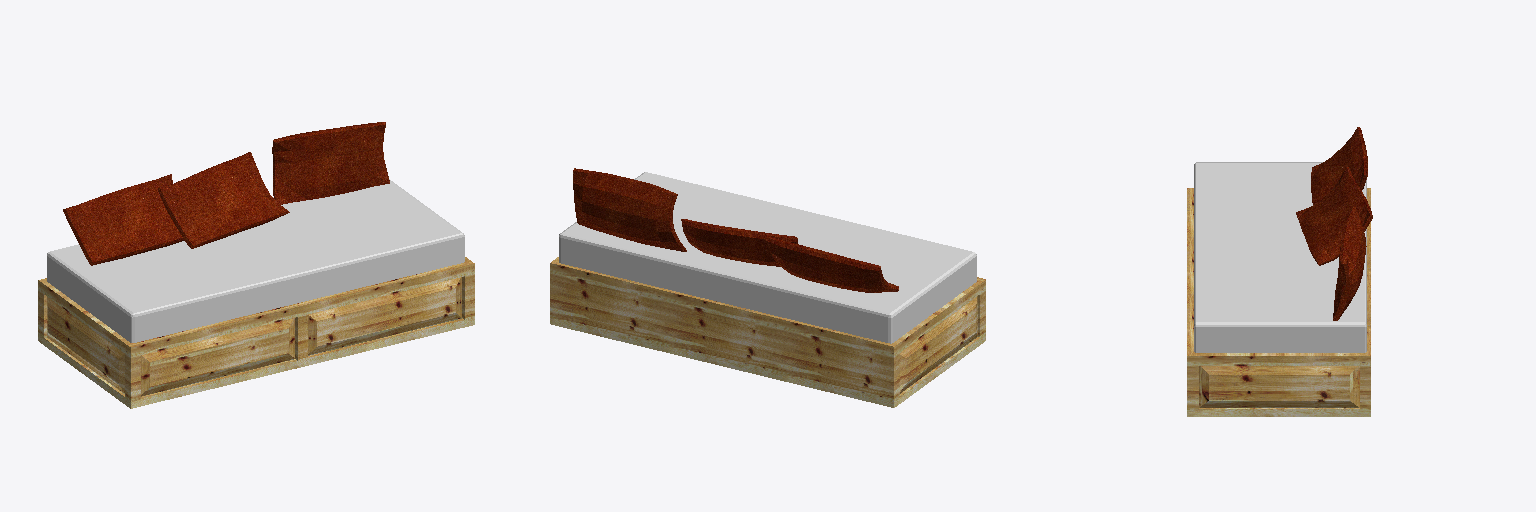
3 views of the same model, side by side, from view 1: azimuth 30°, elevation 25°; view 2: azimuth 150°, elevation 25°; view 3: azimuth 270°, elevation 25° (orthographic).
Visible parts, largest first — view 1: ChamferBox01, Box01, Box17, Box02, Box16; view 2: ChamferBox01, Box01, Box17, Box16, Box02; view 3: ChamferBox01, Box01, Box02, Box17, Box16.
Boxes of the visible parts, <box> form: ChamferBox01: <box>47,179,464,342</box>; Box01: <box>38,257,474,408</box>; Box17: <box>272,122,389,204</box>; Box02: <box>158,152,289,248</box>; Box16: <box>63,174,183,265</box>; ChamferBox01: <box>559,172,976,343</box>; Box01: <box>550,257,985,407</box>; Box17: <box>573,168,686,251</box>; Box16: <box>766,236,898,292</box>; Box02: <box>681,219,797,266</box>; ChamferBox01: <box>1194,162,1366,352</box>; Box01: <box>1187,188,1370,416</box>; Box02: <box>1296,167,1372,265</box>; Box17: <box>1333,207,1366,320</box>; Box16: <box>1311,127,1367,204</box>.
Bounding box in the file's own units: 2.01 × 0.8547 × 0.9382.
3 materials, 2 textured.